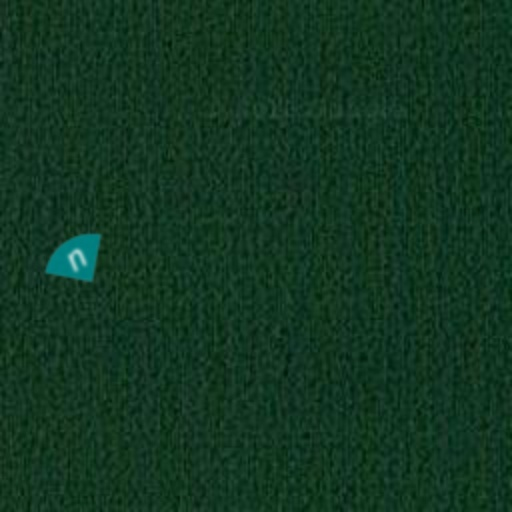quarter_circle: (30, 212, 122, 304)
